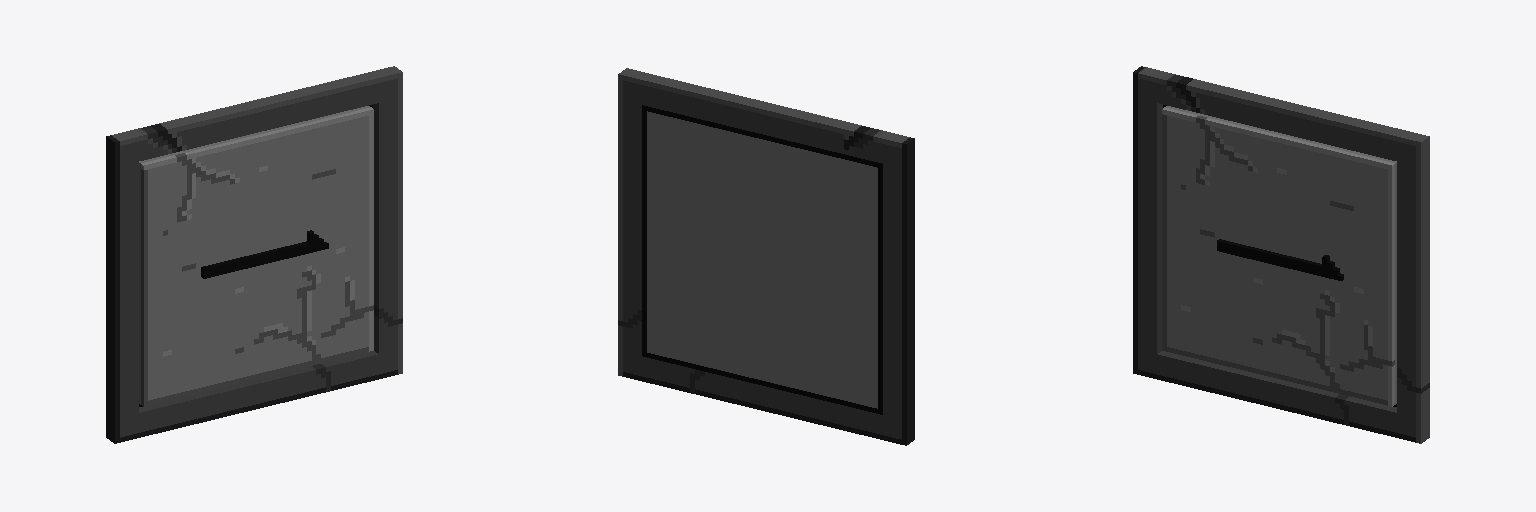
3 renders of one model, left to right at view 1: azimuth 30°, elevation 25°; view 2: azimuth 150°, elevation 25°; view 3: azimuth 330°, elevation 25°, orthographic.
Parts seen in each view (by area): view 1: balpan_1; view 2: balpan_1; view 3: balpan_1.
Boxes of the visible parts, x1,y1,x2,y2 form: balpan_1: [106, 66, 402, 443]; balpan_1: [618, 68, 914, 445]; balpan_1: [1133, 66, 1429, 443].
Size of the model in its own units: 60 by 60 by 4.
Materials: 1 (1 with a texture image).